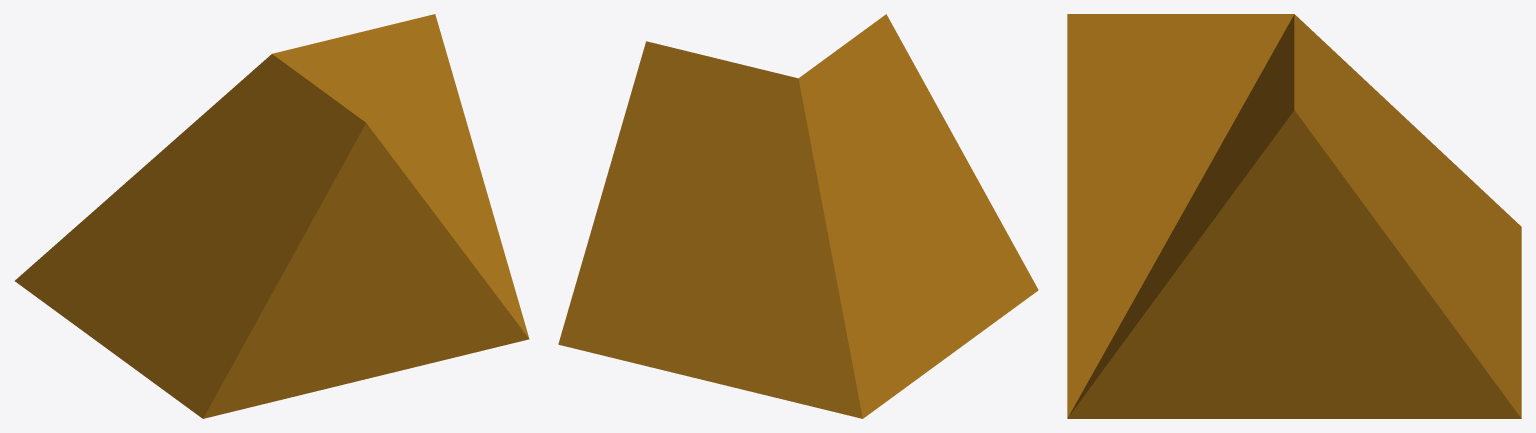
File: Roof-Steep-4x4x3-Gable-Corner.FBX
3 renders of one model, left to right at view 1: azimuth 30°, elevation 25°; view 2: azimuth 150°, elevation 25°; view 3: azimuth 270°, elevation 25°, orthographic. The views are drawn at different scales.
Visible parts, largest first — view 1: Roof-Steep-4x4x3-Gable-Corner; view 2: Roof-Steep-4x4x3-Gable-Corner; view 3: Roof-Steep-4x4x3-Gable-Corner.
Boxes of the visible parts, x1,y1,x2,y2 form: Roof-Steep-4x4x3-Gable-Corner: [15, 14, 529, 418]; Roof-Steep-4x4x3-Gable-Corner: [558, 14, 1038, 418]; Roof-Steep-4x4x3-Gable-Corner: [1067, 14, 1521, 418].
Size of the model in its own units: 40 by 40 by 30.
